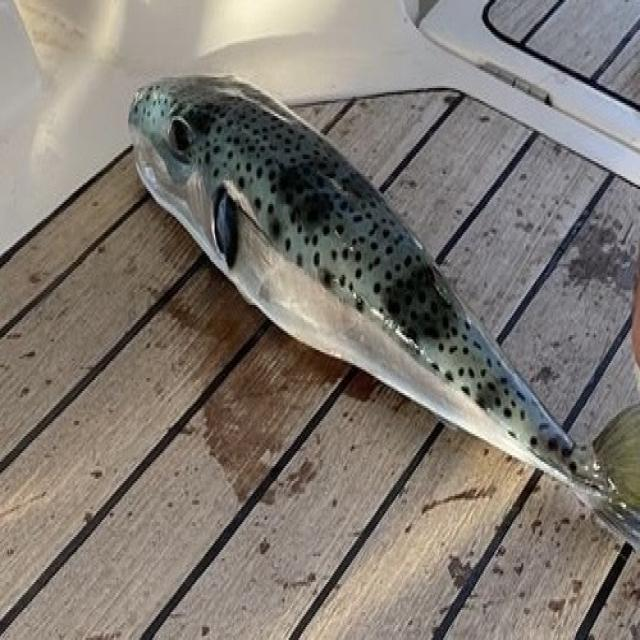Balik: (130, 78, 639, 547)
